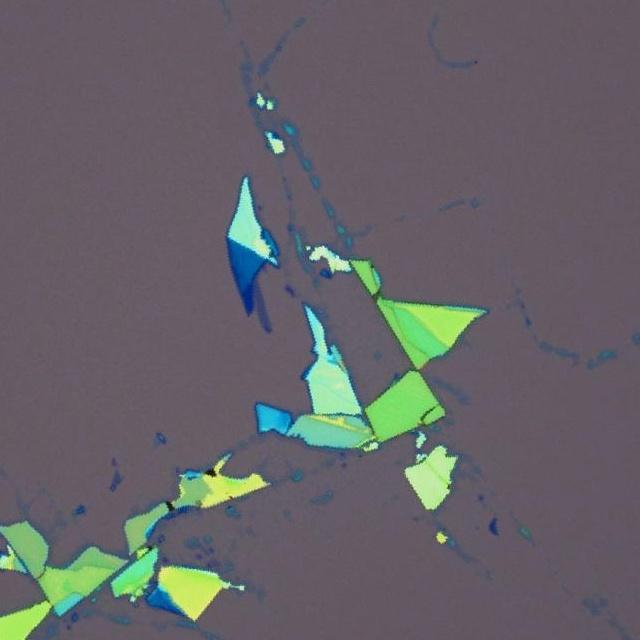monolayer-eWW4: (254, 280, 272, 330)
